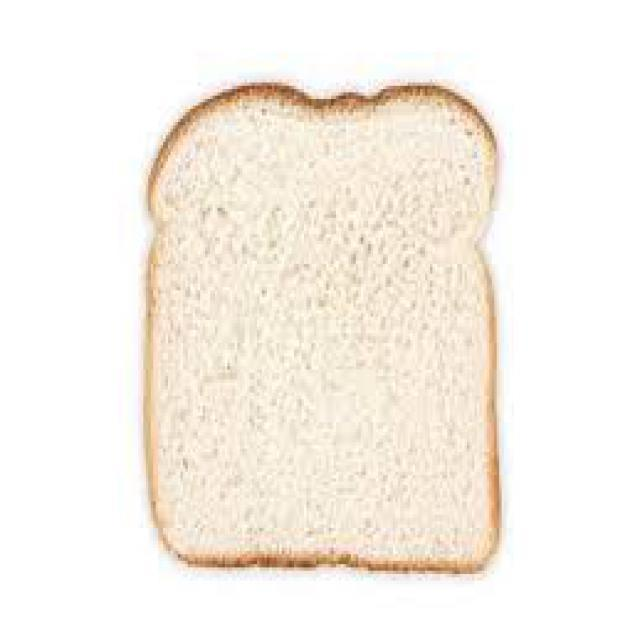Bread: (148, 84, 498, 574)
